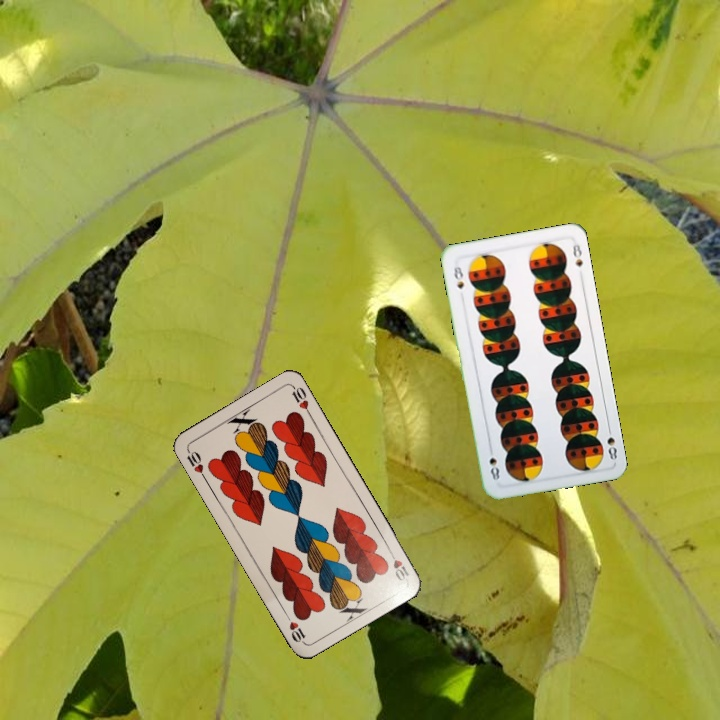H10: (384, 546, 412, 584), (183, 446, 209, 483)
S8: (603, 423, 619, 462), (450, 263, 467, 291)
